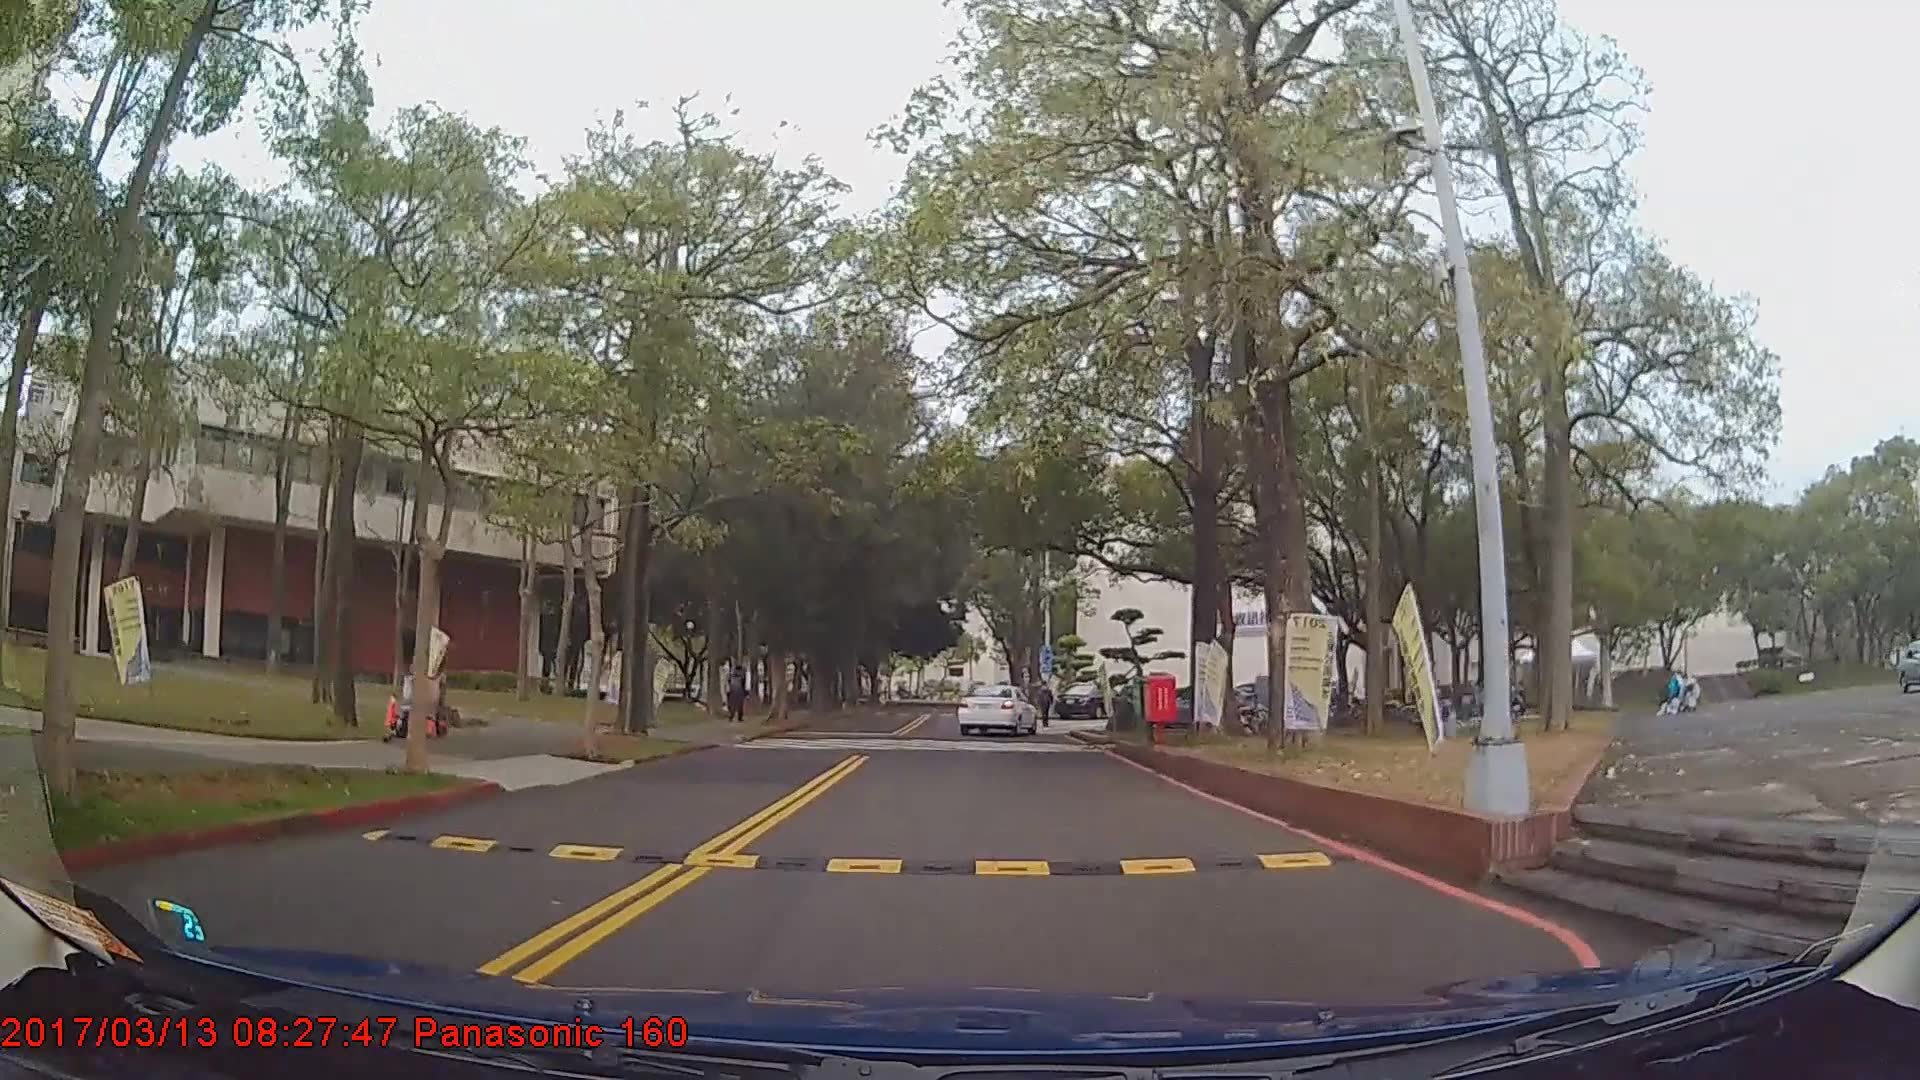pedestrian: (725, 661, 755, 729)
vehicle: (958, 683, 1037, 737), (1056, 684, 1118, 720)
